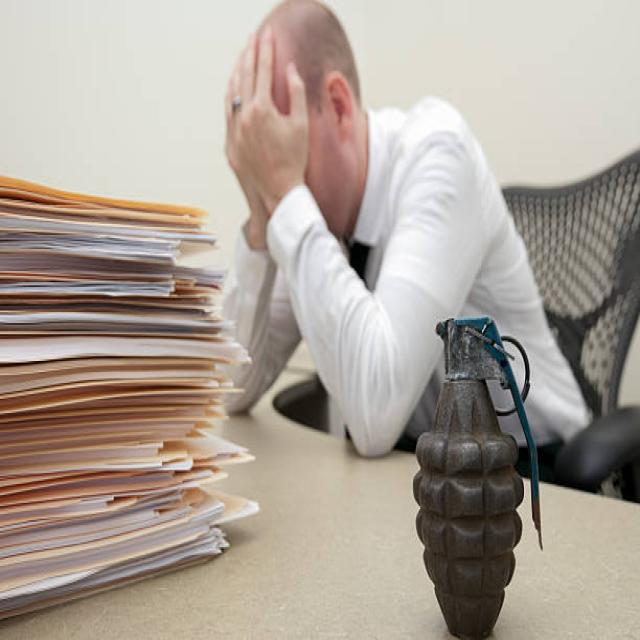grenade: (410, 316, 549, 640)
